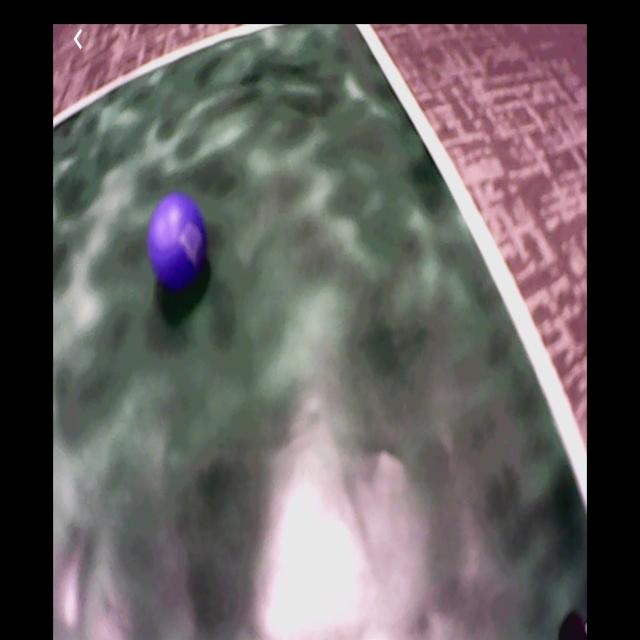ball: (152, 196, 207, 287)
